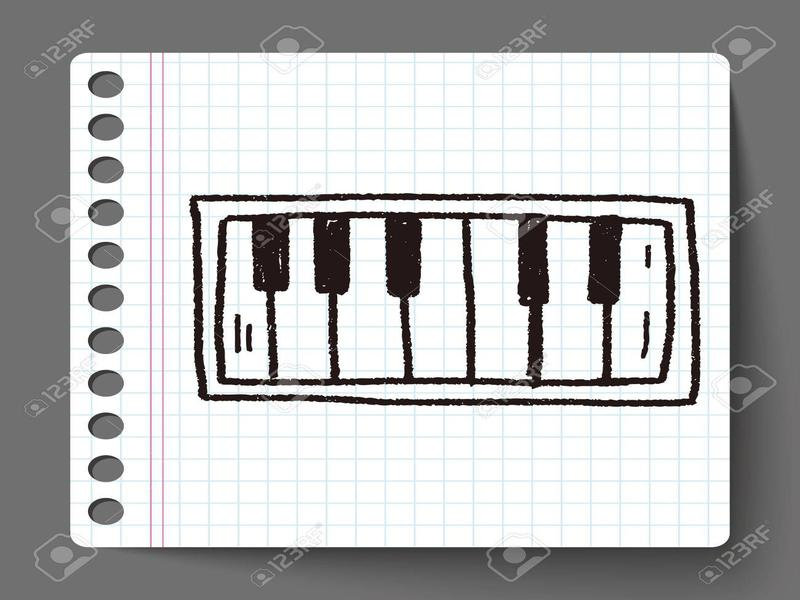piano: (212, 210, 677, 390)
